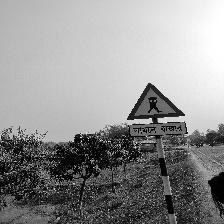Market-in-front: (127, 84, 187, 137)
